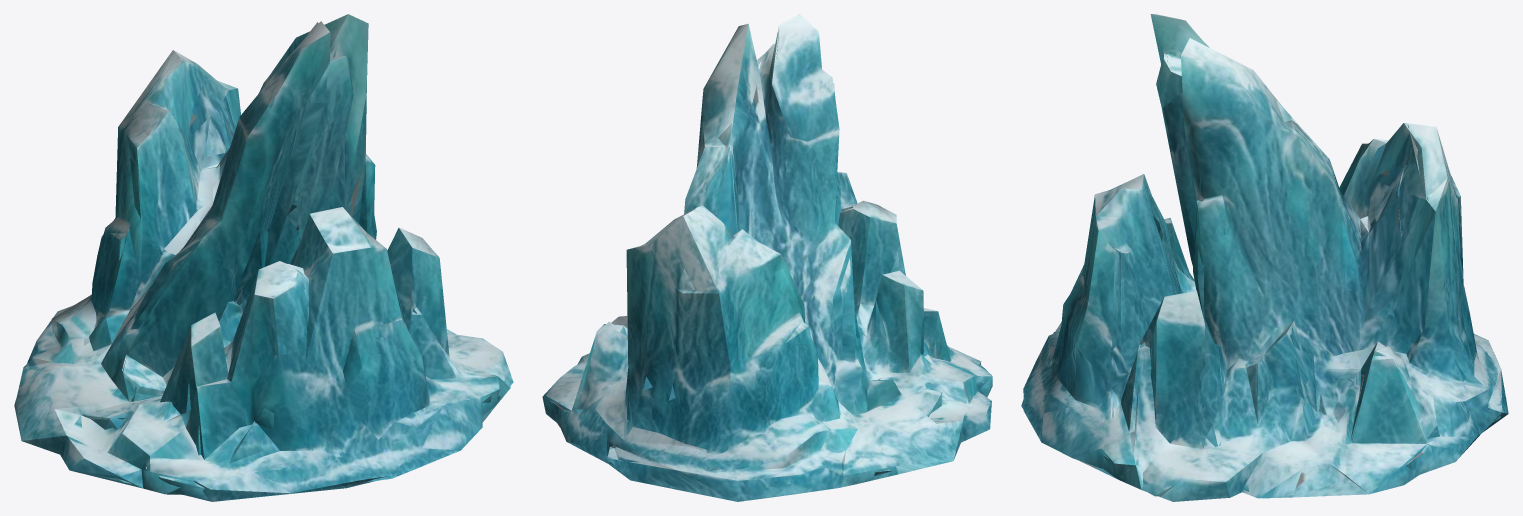
3 views of the same model, side by side, from view 1: azimuth 30°, elevation 25°; view 2: azimuth 150°, elevation 25°; view 3: azimuth 270°, elevation 25° (orthographic). The views are drawn at different scales.
Visible parts, largest first — view 1: glacier-spires.001; view 2: glacier-spires.001; view 3: glacier-spires.001.
Boxes of the visible parts, box(x1,y1,x2,y2) form: glacier-spires.001: box(14, 14, 513, 501); glacier-spires.001: box(542, 14, 992, 501); glacier-spires.001: box(1021, 14, 1508, 501).
Size of the model in its own units: 14.69 by 12.93 by 14.43.
1 material, 1 textured.
